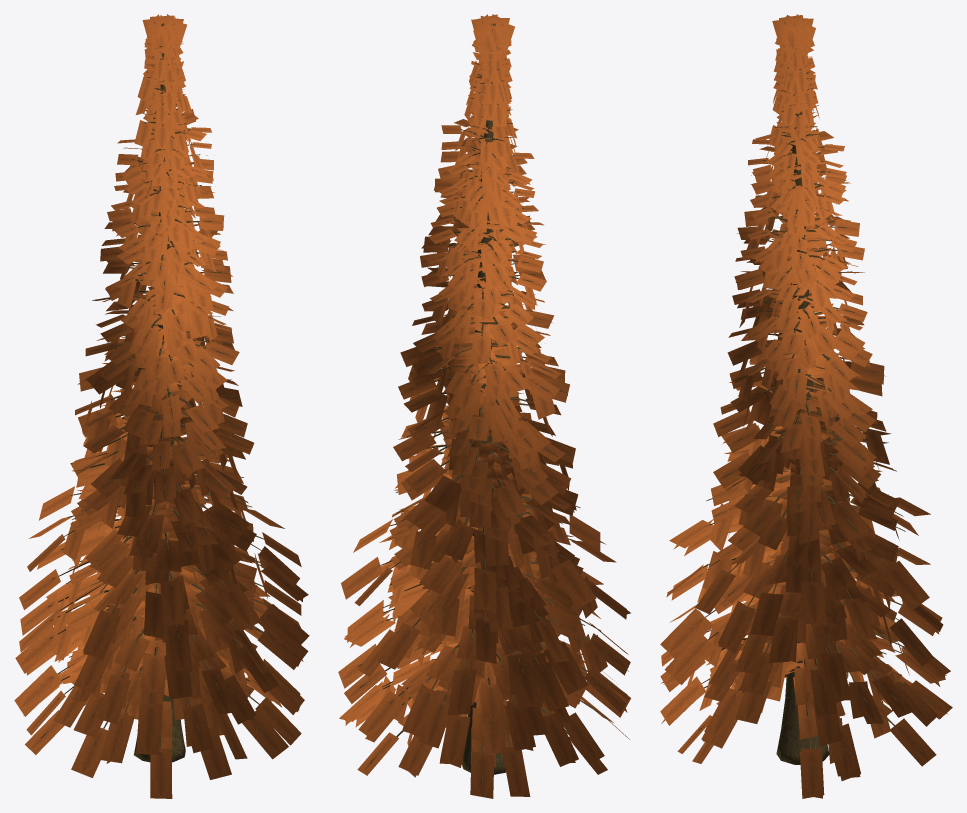
The model's file is baldcypress_v02_LOD1.fbx.
The picture shows the model from 3 angles, left to right: view 1: azimuth 30°, elevation 25°; view 2: azimuth 150°, elevation 25°; view 3: azimuth 270°, elevation 25°; orthographic projection.
Parts seen in each view (by area): view 1: baldcypress_v02_LOD1; view 2: baldcypress_v02_LOD1; view 3: baldcypress_v02_LOD1.
Boxes of the visible parts, x1=… form: baldcypress_v02_LOD1: x1=14, y1=14, x2=309, y2=798; baldcypress_v02_LOD1: x1=338, y1=14, x2=630, y2=798; baldcypress_v02_LOD1: x1=660, y1=14, x2=952, y2=798.
Bounding box in the file's own units: 931 × 944 × 2620.
